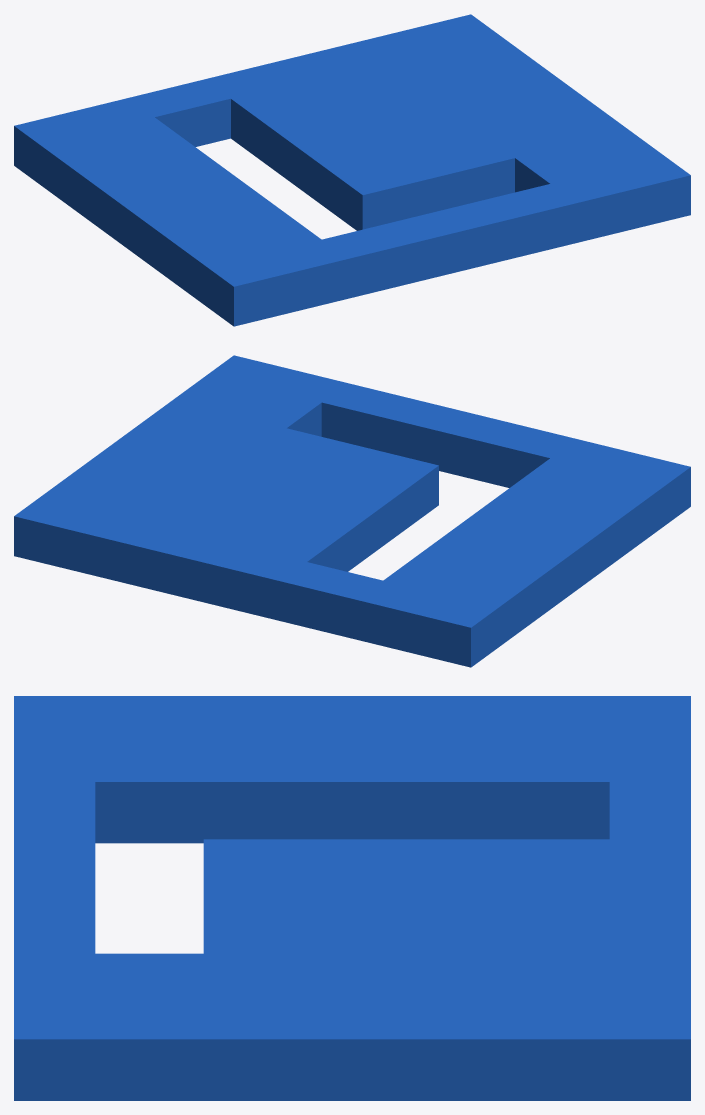
3 renders of one model, top to bottom at view 1: azimuth 30°, elevation 25°; view 2: azimuth 150°, elevation 25°; view 3: azimuth 270°, elevation 25°, orthographic. The views are drawn at different scales.
Visible parts, largest first — view 1: L; view 2: L; view 3: L.
Part boxes in pixels (left/top/right/bottom): L: left=14, top=14, right=690, bottom=326; L: left=14, top=355, right=690, bottom=667; L: left=14, top=696, right=690, bottom=1100.
Size of the model in its own units: 0.6 by 0.5 by 0.05.
